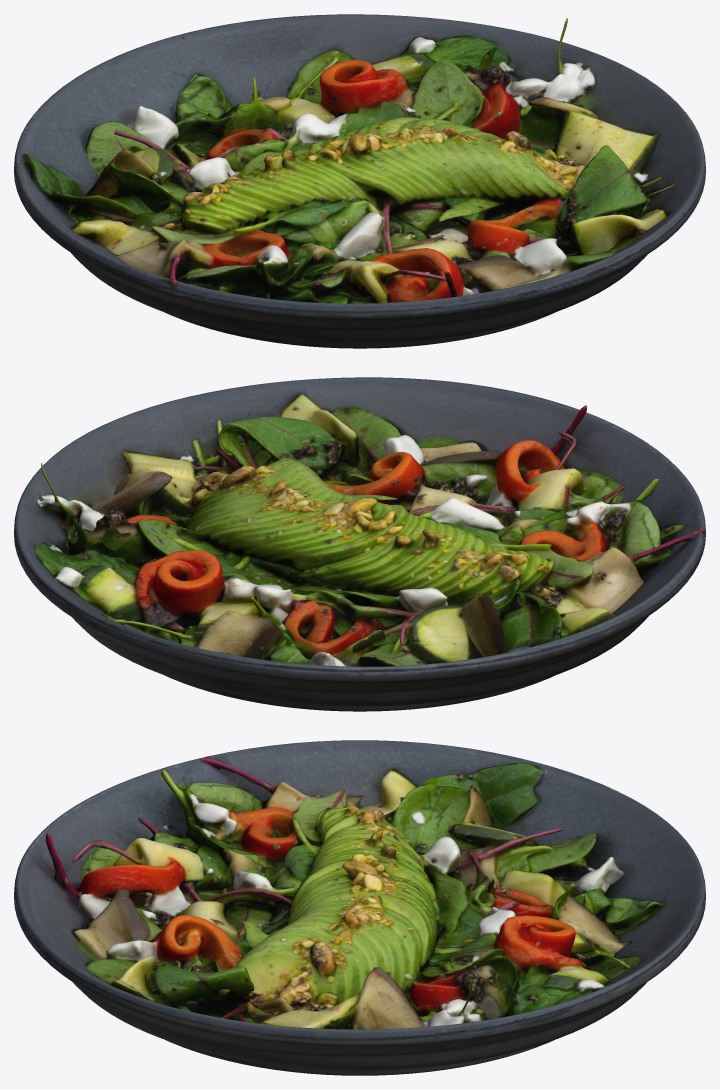
File: Viva Las Veggies.FBX
3 renders of one model, top to bottom at view 1: azimuth 30°, elevation 25°; view 2: azimuth 150°, elevation 25°; view 3: azimuth 270°, elevation 25°, orthographic.
Visible parts, largest first — view 1: Dish13_Viva Las Veggies; view 2: Dish13_Viva Las Veggies; view 3: Dish13_Viva Las Veggies.
Boxes of the visible parts, x1=… form: Dish13_Viva Las Veggies: x1=14, y1=14, x2=705, y2=348; Dish13_Viva Las Veggies: x1=14, y1=377, x2=705, y2=711; Dish13_Viva Las Veggies: x1=14, y1=740, x2=705, y2=1075.
Bounding box in the file's own units: 25.63 × 4.64 × 25.63.
1 material, 1 textured.
